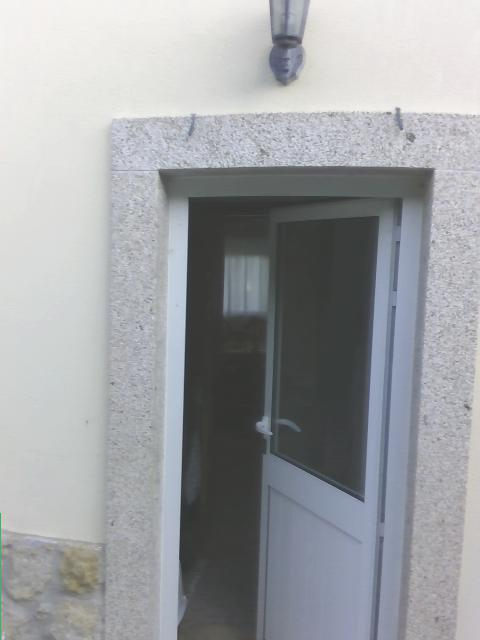semi_door: (158, 163, 437, 639)
